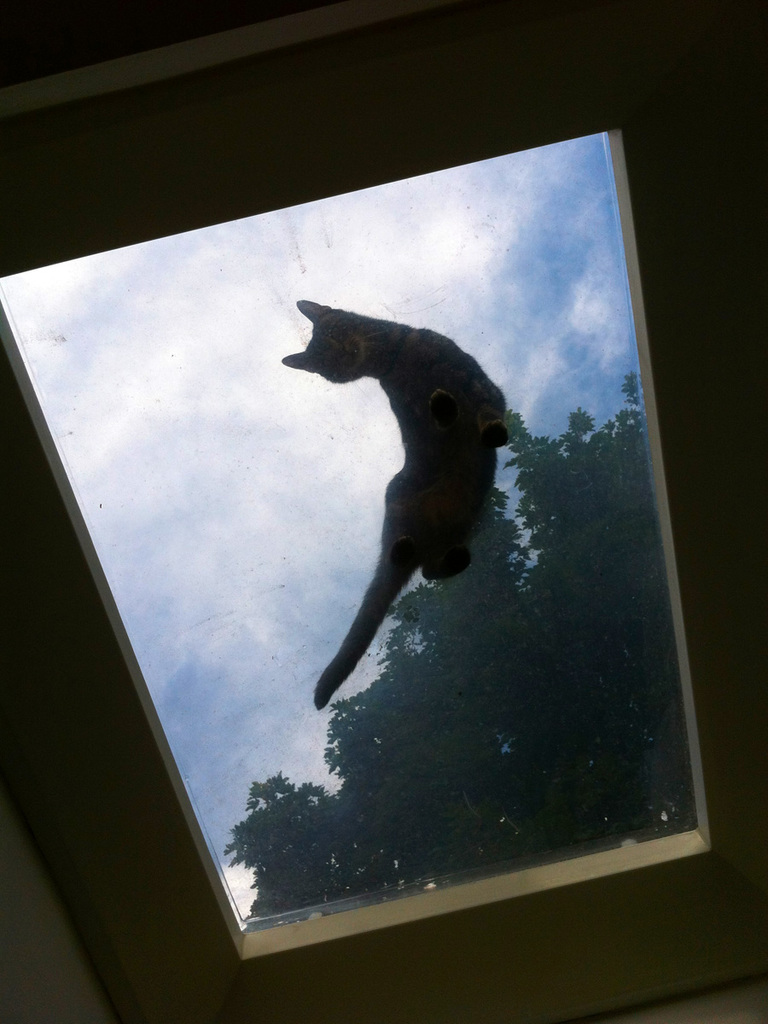Animal: (286, 301, 510, 704)
